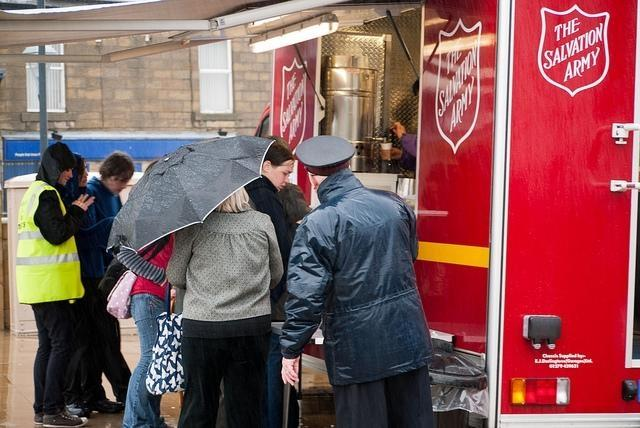truck: (244, 2, 640, 423)
